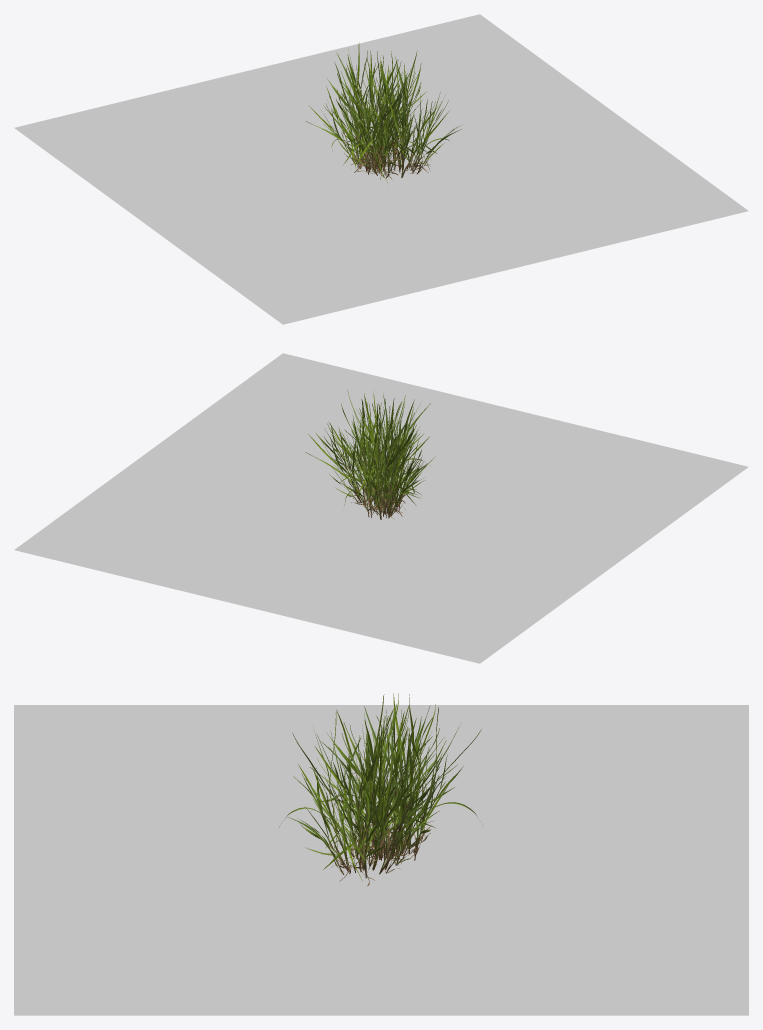
Rendered from grass.glb.
3 views of the same model, one above another, from view 1: azimuth 30°, elevation 25°; view 2: azimuth 150°, elevation 25°; view 3: azimuth 270°, elevation 25° (orthographic). The views are drawn at different scales.
Parts seen in each view (by area): view 1: Plane, CreepingBentgrass_Big_CLUMP_HIGH_001, CreepingBentgrass_Big_CLUMP_HIGH_003, CreepingBentgrass_Big_CLUMP_HIGH_002; view 2: Plane, CreepingBentgrass_Big_CLUMP_HIGH_003, CreepingBentgrass_Big_CLUMP_HIGH_001, CreepingBentgrass_Big_CLUMP_HIGH_002; view 3: Plane, CreepingBentgrass_Big_CLUMP_HIGH_001, CreepingBentgrass_Big_CLUMP_HIGH_003, CreepingBentgrass_Big_CLUMP_HIGH_002.
Boxes of the visible parts, x1,y1,x2,y2 form: Plane: (14,14,748,324); CreepingBentgrass_Big_CLUMP_HIGH_001: (339,50,461,184); CreepingBentgrass_Big_CLUMP_HIGH_003: (305,43,415,170); CreepingBentgrass_Big_CLUMP_HIGH_002: (323,57,422,174); Plane: (14,353,748,663); CreepingBentgrass_Big_CLUMP_HIGH_003: (331,398,430,519); CreepingBentgrass_Big_CLUMP_HIGH_001: (305,390,435,510); CreepingBentgrass_Big_CLUMP_HIGH_002: (353,390,425,516); Plane: (14,705,748,1015); CreepingBentgrass_Big_CLUMP_HIGH_001: (279,712,444,886); CreepingBentgrass_Big_CLUMP_HIGH_003: (310,693,482,865); CreepingBentgrass_Big_CLUMP_HIGH_002: (316,693,435,864).
Bounding box in the file's own units: 2 × 0.4945 × 2.
1 material, 1 textured.
